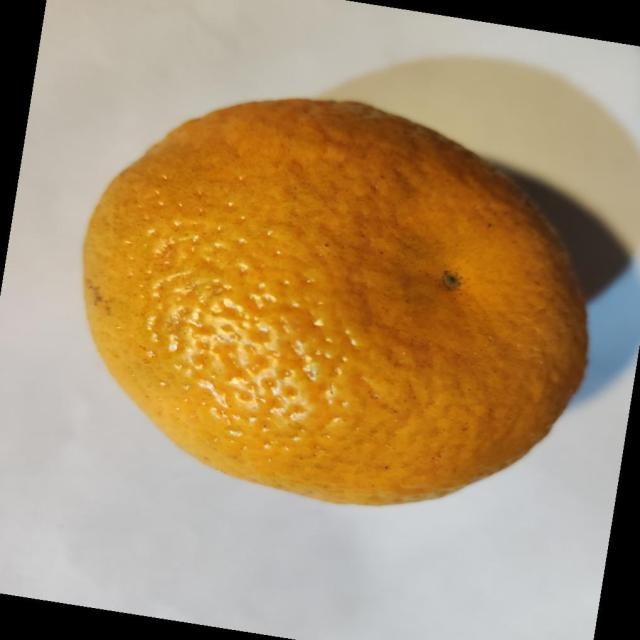agrume: (81, 96, 590, 506)
